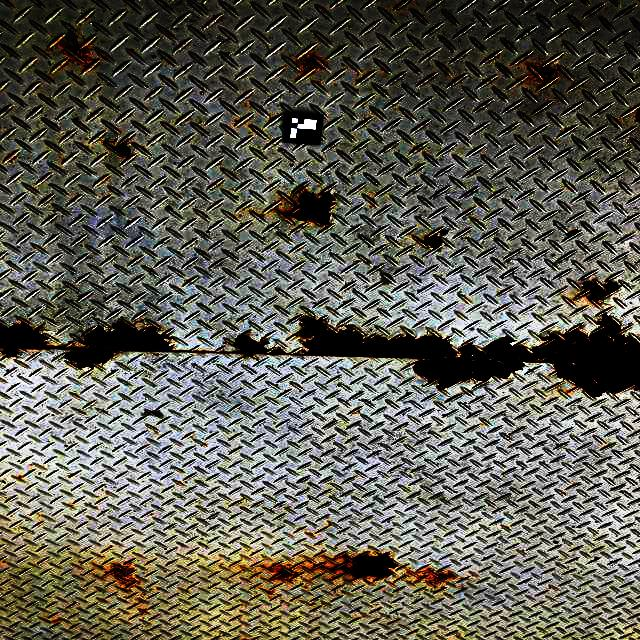Corrosion: (299, 313, 640, 398), (63, 321, 173, 369), (0, 323, 46, 358), (341, 554, 397, 581), (291, 191, 333, 225), (47, 38, 93, 65), (231, 334, 271, 363), (580, 281, 623, 302), (104, 565, 136, 593), (414, 567, 456, 586), (296, 49, 324, 74), (529, 64, 559, 84), (267, 566, 299, 582), (104, 141, 130, 157), (422, 235, 443, 248), (267, 347, 286, 355), (439, 230, 449, 237), (637, 109, 640, 117)
